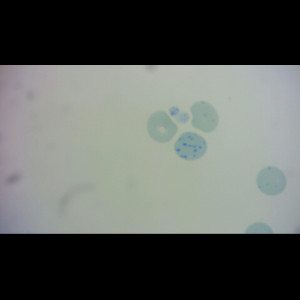aggregate reticulocyte: (173, 132, 209, 162)
erythrocyte: (145, 109, 179, 143)
punctate reticulocyte: (255, 165, 289, 197), (190, 100, 221, 134)
